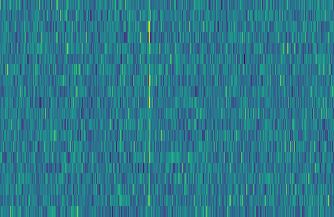signal: (143, 0, 152, 217)
